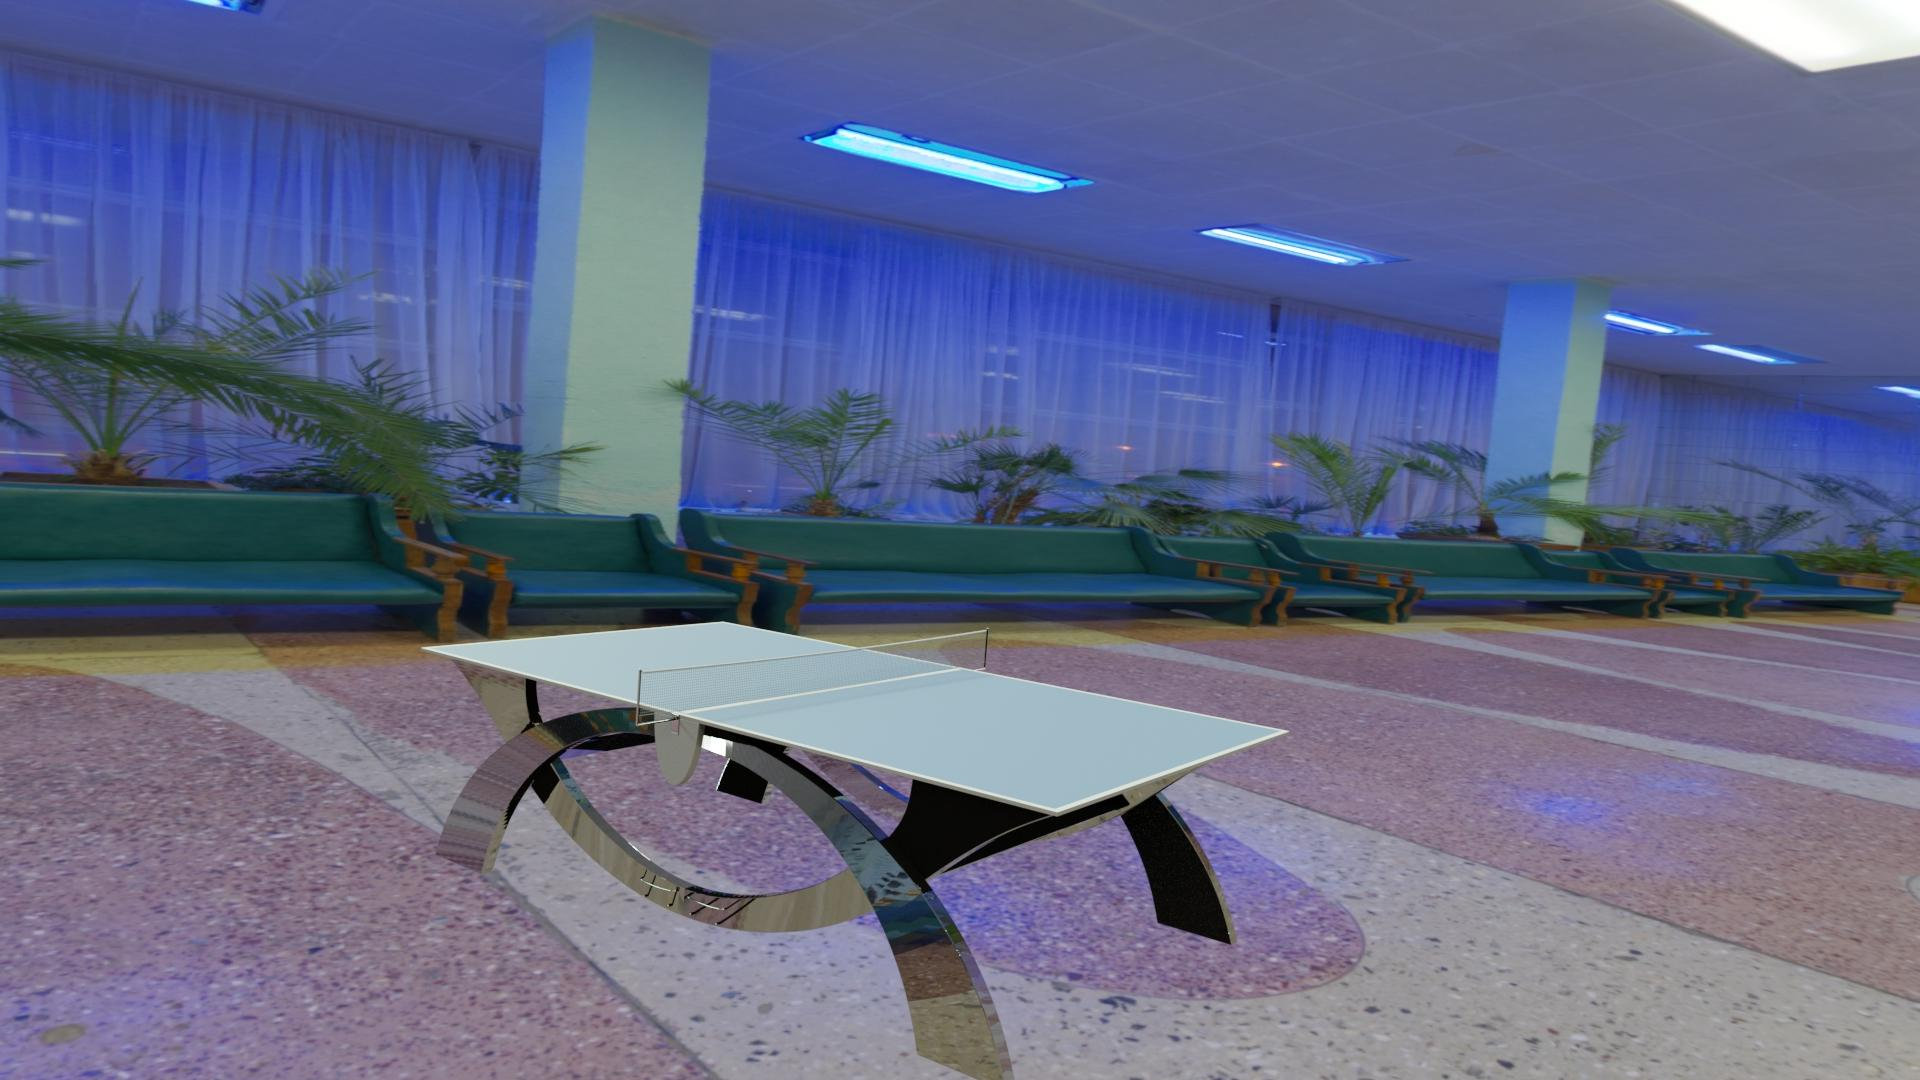table: (429, 622, 1282, 808)
